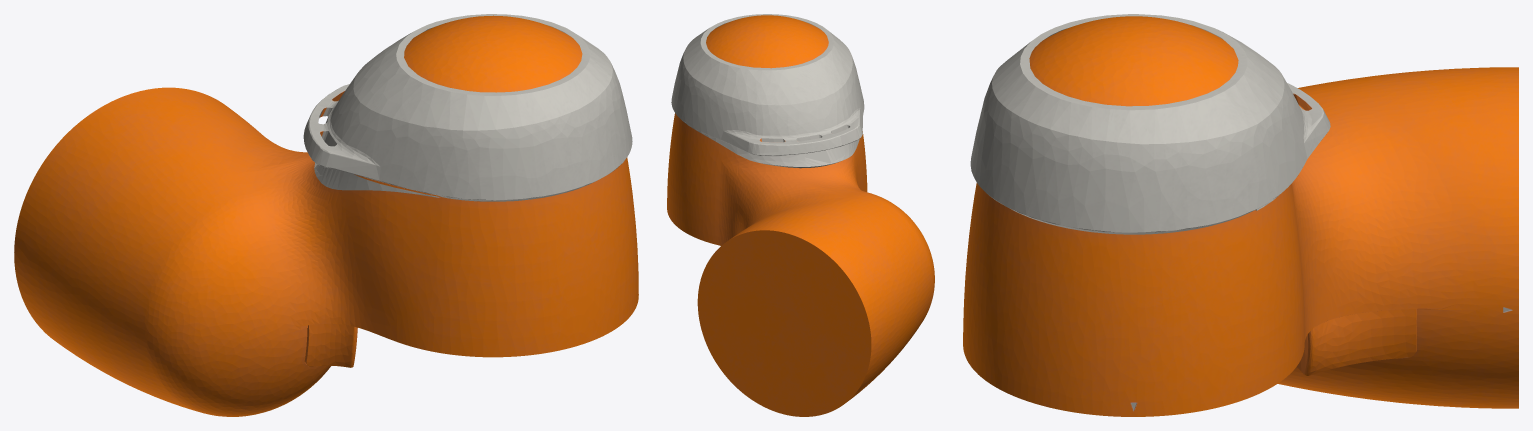
3 renders of one model, left to right at view 1: azimuth 30°, elevation 25°; view 2: azimuth 150°, elevation 25°; view 3: azimuth 270°, elevation 25°, orthographic. The views are drawn at different scales.
Visible parts, largest first — view 1: link4; view 2: link4; view 3: link4.
Boxes of the visible parts, <box> form: link4: <box>14,14,638,416</box>; link4: <box>667,14,934,416</box>; link4: <box>963,14,1518,416</box>.
Bounding box in the file's own units: 19.25 × 17.9 × 16.61.
1 material, 1 textured.
